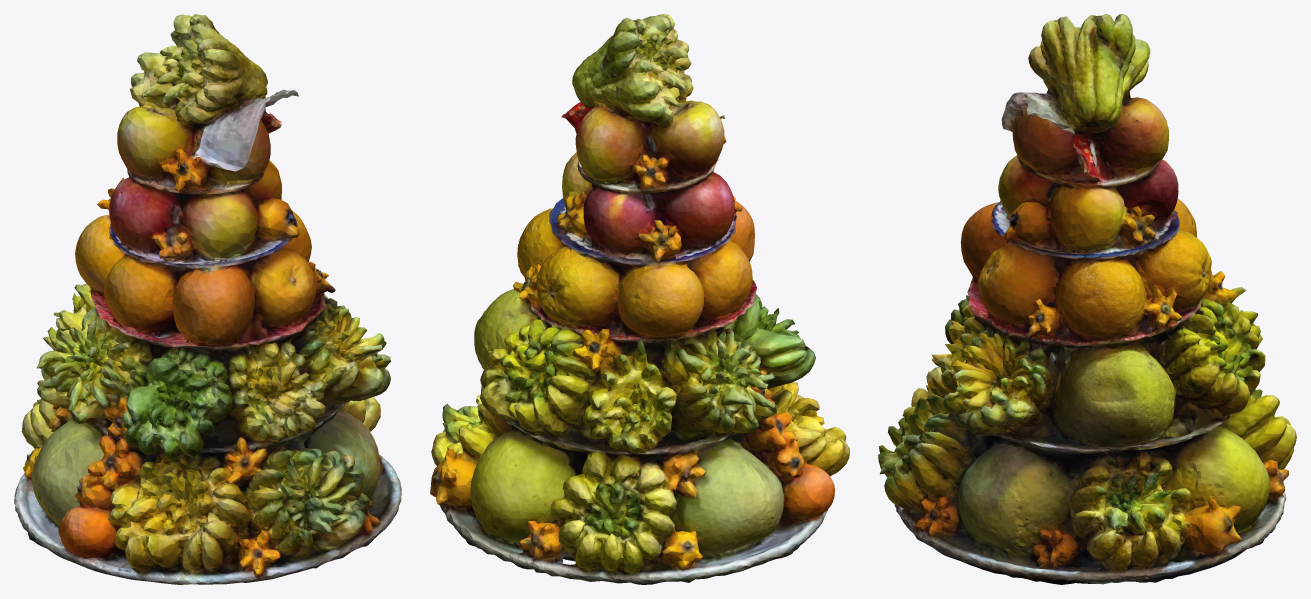
The model's file is compressed_fruit.glb.
3 views of the same model, side by side, from view 1: azimuth 30°, elevation 25°; view 2: azimuth 150°, elevation 25°; view 3: azimuth 270°, elevation 25° (orthographic).
Bounding box in the file's own units: 0.3977 × 0.5327 × 0.4096.
1 material, 1 textured.
